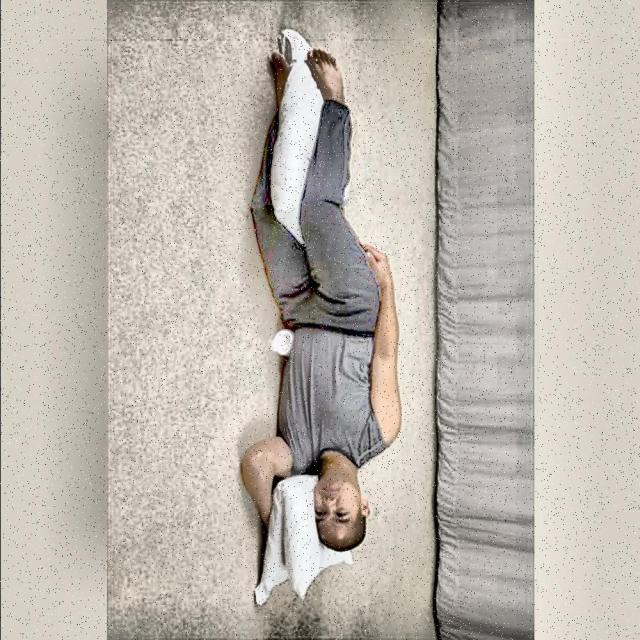Not_Supine: (241, 49, 401, 549)
